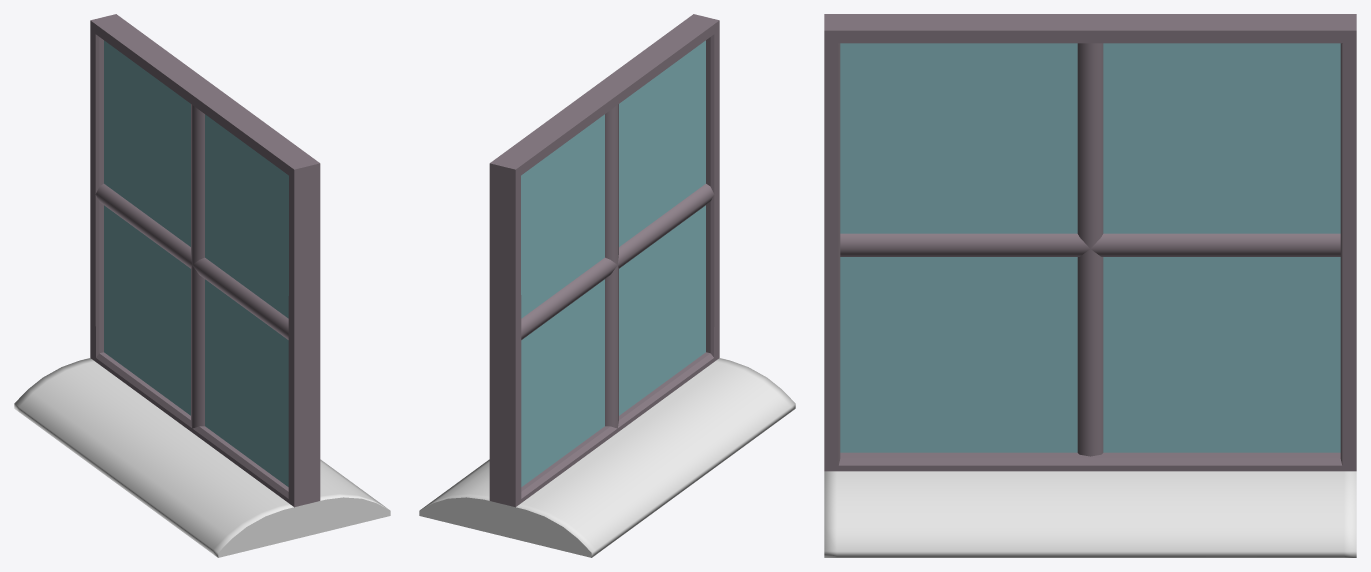
File: GB_101_102_window.glb
3 renders of one model, left to right at view 1: azimuth 30°, elevation 25°; view 2: azimuth 150°, elevation 25°; view 3: azimuth 270°, elevation 25°, orthographic. The views are drawn at different scales.
Parts seen in each view (by area): view 1: Window2; view 2: Window2; view 3: Window2.
Boxes of the visible parts, x1,y1,x2,y2 form: Window2: (14, 14, 390, 557); Window2: (419, 14, 795, 557); Window2: (824, 14, 1356, 557).
Size of the model in its own units: 0.7317 by 1.5 by 1.5.
